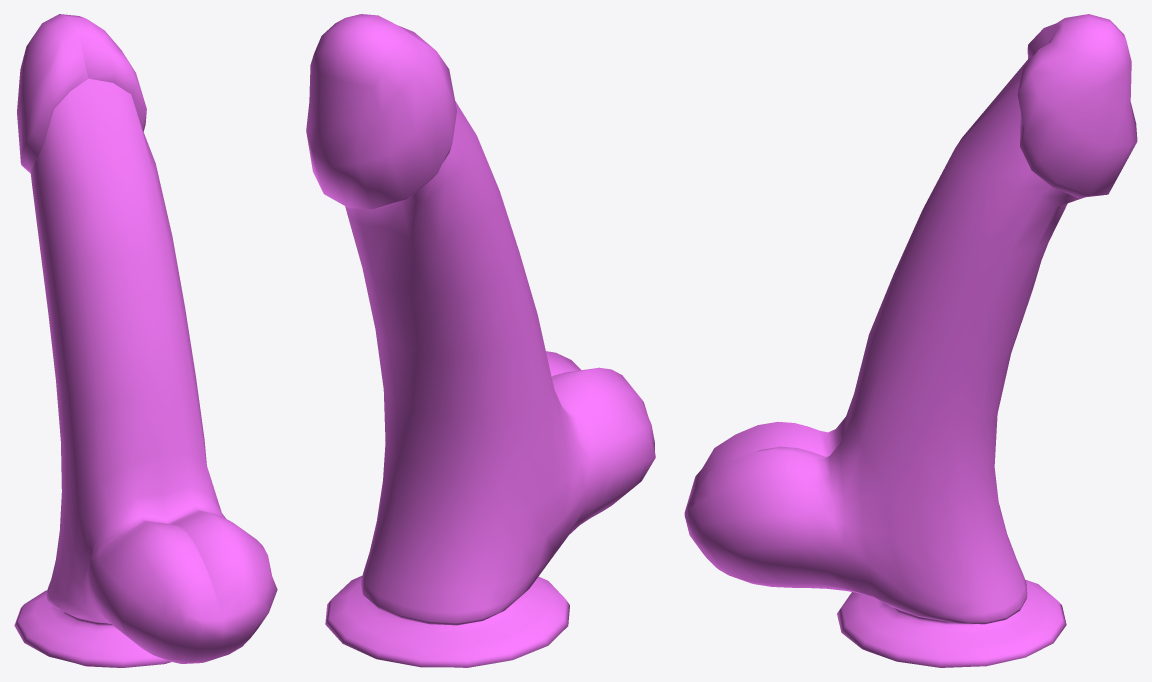
Rendered from Dildooooooo.fbx.
The picture shows the model from 3 angles, left to right: view 1: azimuth 30°, elevation 25°; view 2: azimuth 150°, elevation 25°; view 3: azimuth 270°, elevation 25°; orthographic projection. The views are drawn at different scales.
Parts seen in each view (by area): view 1: Cube.006; view 2: Cube.006; view 3: Cube.006.
Boxes of the visible parts, x1,y1,x2,y2 form: Cube.006: [14, 14, 277, 667]; Cube.006: [306, 14, 655, 667]; Cube.006: [684, 14, 1137, 667].
Bounding box in the file's own units: 19.32 × 57.09 × 38.06.
